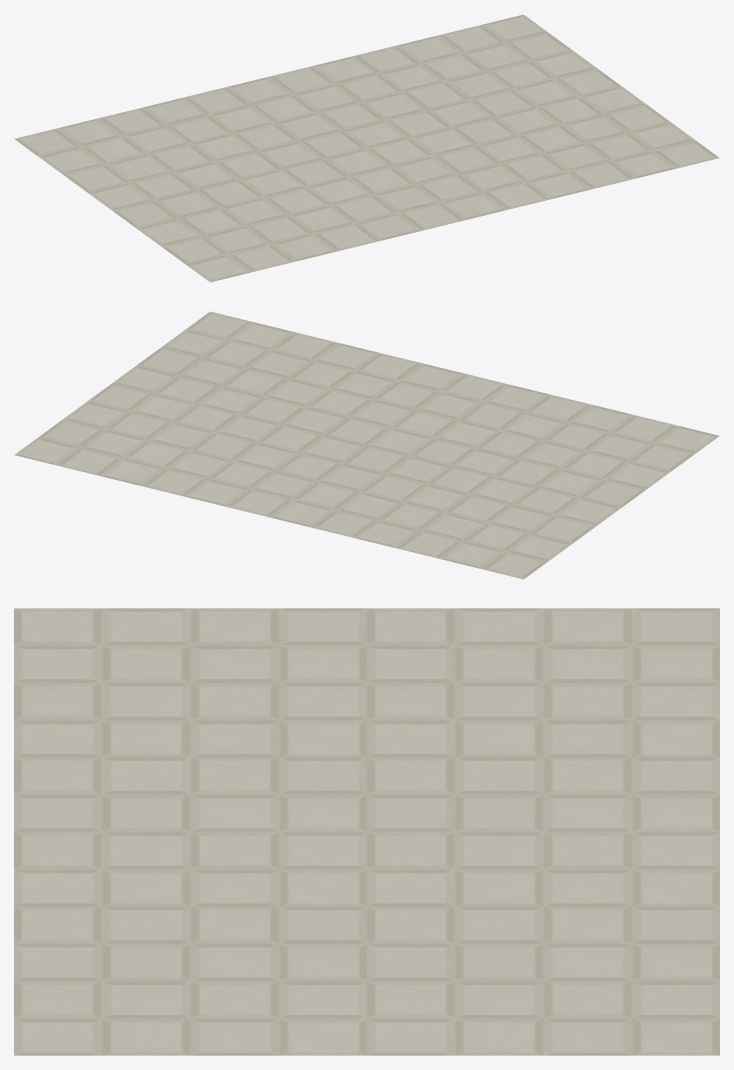
Rendered from Homeworld_Interior_Fd_Room_B_Floor_01_Vo.fbx.
The picture shows the model from 3 angles, top to bottom: view 1: azimuth 30°, elevation 25°; view 2: azimuth 150°, elevation 25°; view 3: azimuth 270°, elevation 25°; orthographic projection. The views are drawn at different scales.
Visible parts, largest first — view 1: Homeworld_Interior_Fd_Room_Floor_01_Vo (×6); view 2: Homeworld_Interior_Fd_Room_Floor_01_Vo (×6); view 3: Homeworld_Interior_Fd_Room_Floor_01_Vo (×6).
Boxes of the visible parts, <box> form: Homeworld_Interior_Fd_Room_Floor_01_Vo (×6): <box>14,14,719,282</box>; Homeworld_Interior_Fd_Room_Floor_01_Vo (×6): <box>14,311,719,579</box>; Homeworld_Interior_Fd_Room_Floor_01_Vo (×6): <box>14,608,719,1055</box>.
Bounding box in the file's own units: 15 × 1.27e-06 × 10.
